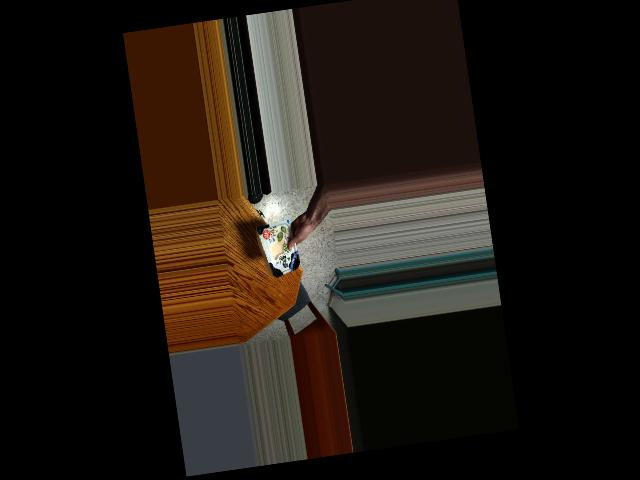cheese: (257, 227, 306, 273)
